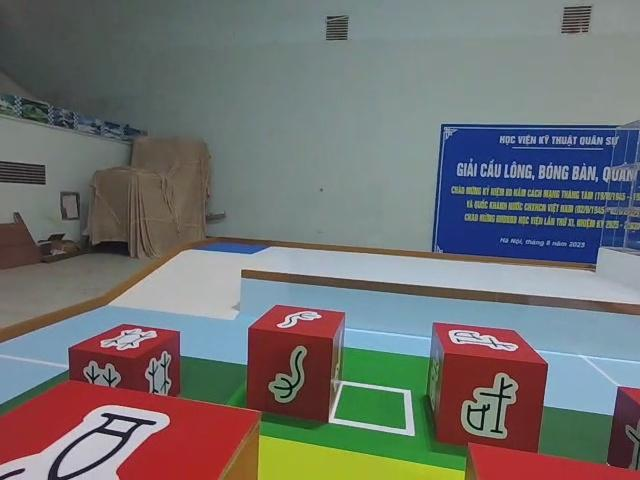R2 Real: (0, 376, 272, 479), (424, 318, 550, 457), (65, 318, 184, 426), (246, 300, 345, 425)
